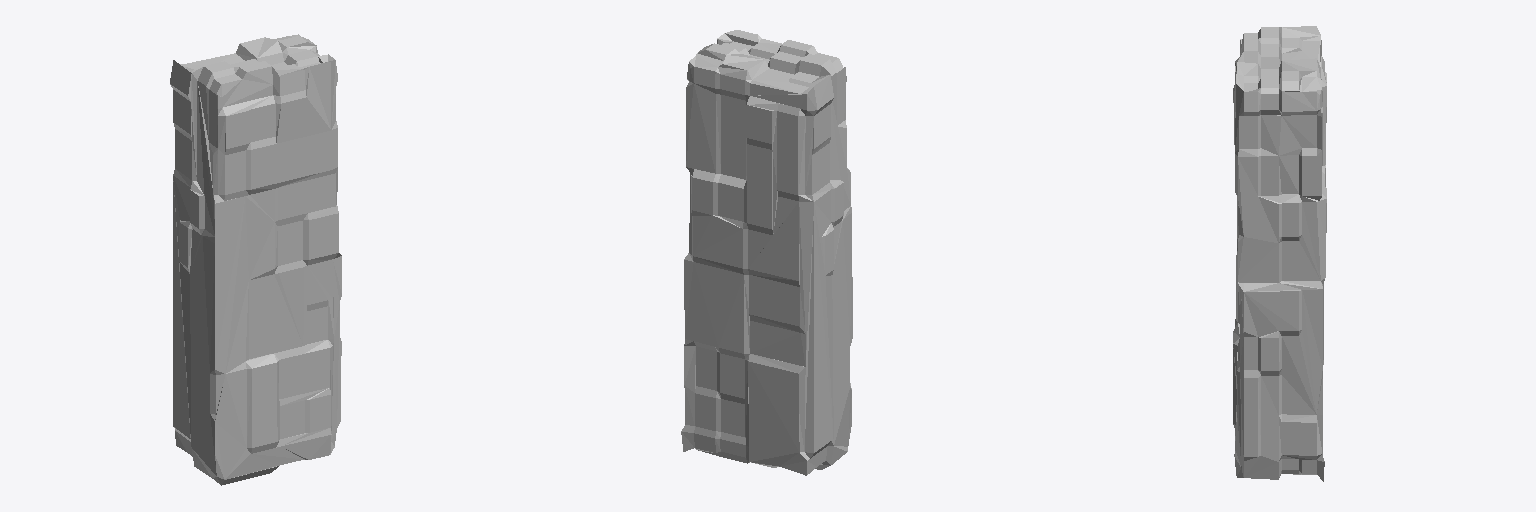
The model's file is ruin rect.obj.
The picture shows the model from 3 angles: view 1: azimuth 30°, elevation 25°; view 2: azimuth 150°, elevation 25°; view 3: azimuth 270°, elevation 25°; orthographic projection.
Parts seen in each view (by area): view 1: Cube.030; view 2: Cube.030; view 3: Cube.030.
Boxes of the visible parts, x1=… form: Cube.030: x1=170, y1=34, x2=341, y2=485; Cube.030: x1=681, y1=30, x2=852, y2=475; Cube.030: x1=1233, y1=26, x2=1326, y2=481.
Size of the model in its own units: 6.5 by 18.59 by 3.91.